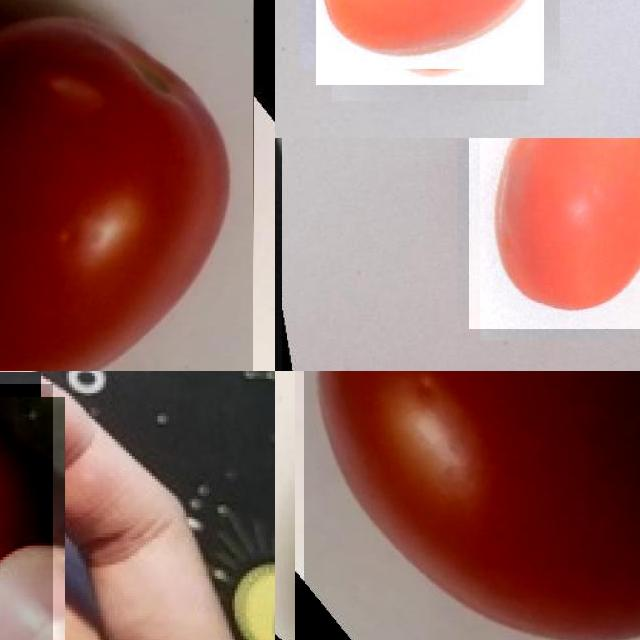Fresh Tomato: (0, 0, 253, 371), (303, 371, 640, 640), (468, 138, 640, 328), (316, 0, 544, 85)
